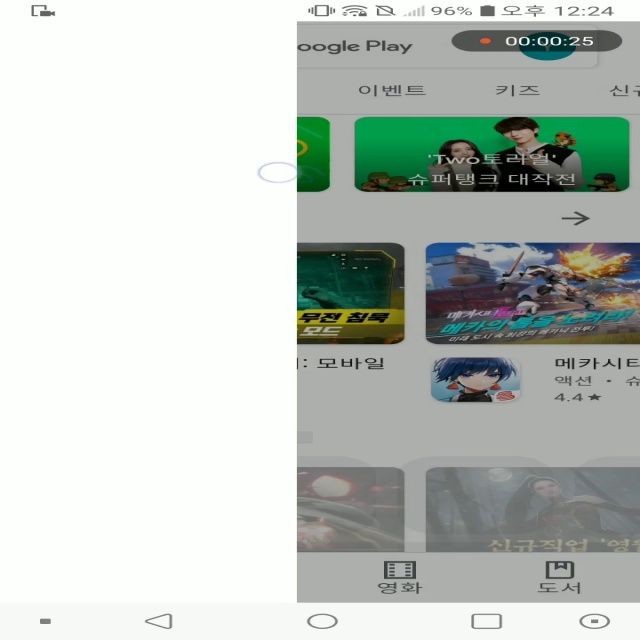Cursor: (258, 162, 303, 184)
